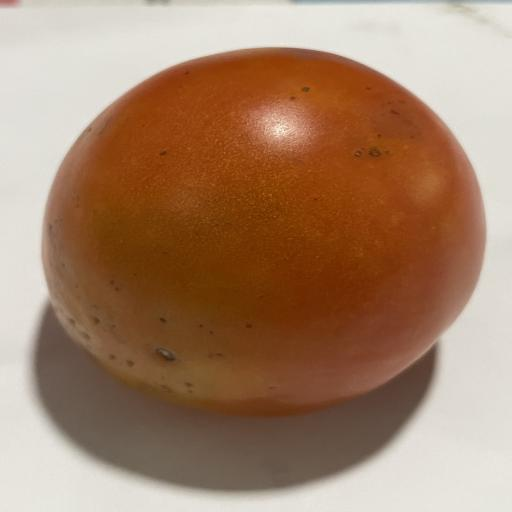ripe: (43, 48, 485, 415)
